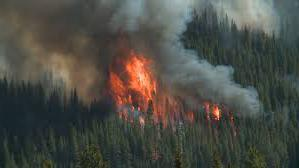fire: (104, 43, 177, 124), (200, 96, 226, 120)
